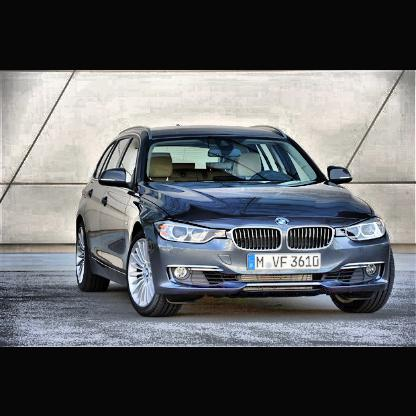BMW 3 Series Wagon 2012: (74, 125, 396, 317)
